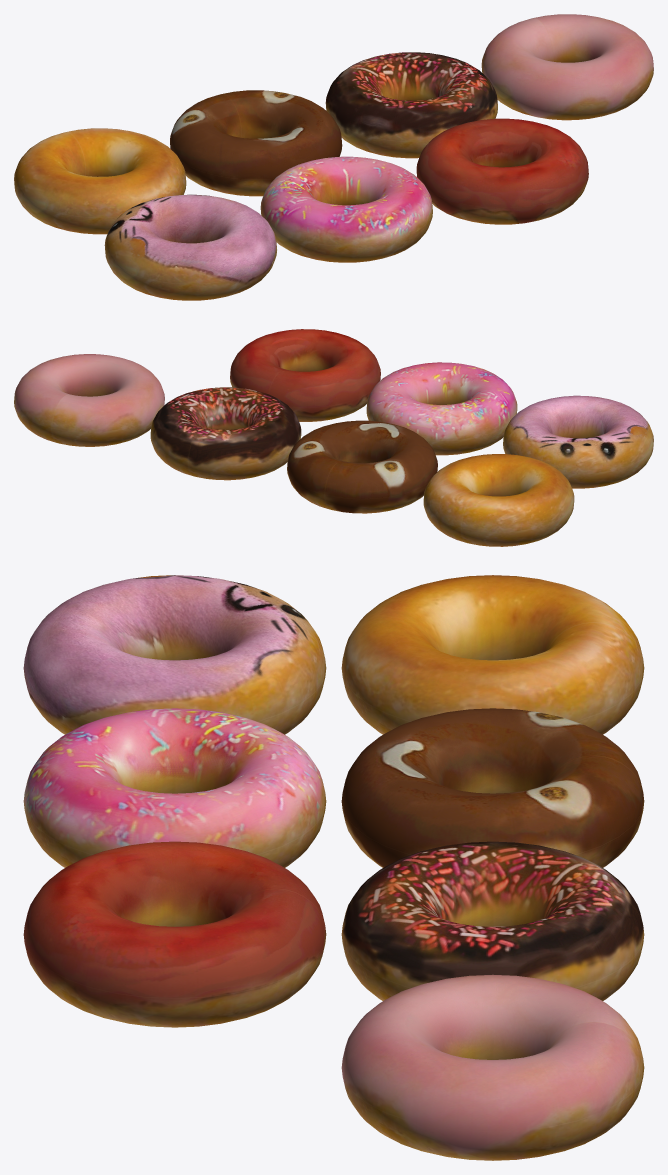
File: Pocolov Cake Donuts.fbx
3 renders of one model, top to bottom at view 1: azimuth 30°, elevation 25°; view 2: azimuth 150°, elevation 25°; view 3: azimuth 270°, elevation 25°, orthographic. The views are drawn at different scales.
Visible parts, largest first — view 1: Torus009, Torus007, Torus006, Torus005, Torus002, Torus003, Torus004; view 2: Torus002, Torus003, Torus005, Torus004, Torus009, Torus006, Torus007; view 3: Torus007, Torus005, Torus004, Torus003, Torus006, Torus002, Torus009.
Boxes of the visible parts, box(x1,y1,x2,y2) form: Torus009: box(104, 194, 276, 300); Torus007: box(416, 118, 588, 224); Torus006: box(260, 156, 432, 262); Torus005: box(481, 14, 653, 120); Torus002: box(14, 128, 186, 234); Torus003: box(170, 90, 342, 196); Torus004: box(325, 52, 497, 158); Torus002: box(423, 454, 574, 546); Torus003: box(287, 420, 437, 513); Torus005: box(14, 354, 164, 446); Torus004: box(150, 387, 301, 480); Torus009: box(503, 395, 653, 488); Torus006: box(366, 362, 517, 455); Torus007: box(230, 329, 380, 421); Torus007: box(23, 841, 326, 1027); Torus005: box(341, 974, 644, 1160); Torus004: box(341, 841, 644, 1000); Torus003: box(341, 708, 644, 867); Torus006: box(23, 708, 326, 867); Torus002: box(341, 575, 644, 734); Torus009: box(23, 575, 326, 734).
Size of the model in its own units: 81.19 by 6.56 by 40.37.
